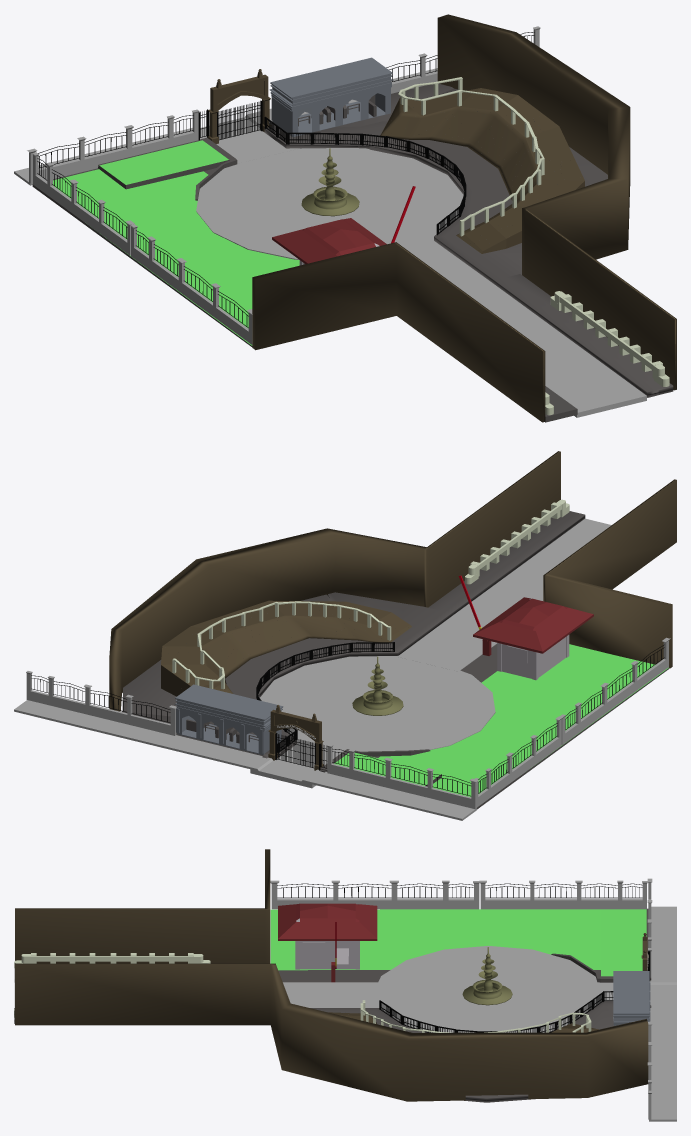
File: Gate3 1.fbx
3 views of the same model, one above another, from view 1: azimuth 30°, elevation 25°; view 2: azimuth 150°, elevation 25°; view 3: azimuth 270°, elevation 25° (orthographic). The views are drawn at different scales.
Parts seen in each view (by area): view 1: Cube.003, Wall, Gate 3 Rotonda, Righrt Stairs, Left Stairs.001, Mini bundok, Road, Entrance, Barrier, Barrier.002, GuardHouse, Barrier.001 (+9 smaller); view 2: Cube.003, Righrt Stairs, Gate 3 Rotonda, Wall, Left Stairs.001, Mini bundok, Road, Outside Sidewalk, GuardHouse, Entrance, Barrier, Barrier.003 (+9 smaller); view 3: Cube.003, Righrt Stairs, Gate 3 Rotonda, Wall, GuardHouse, Outside Sidewalk, Barrier.002, Barrier.001, Road, Entrance, Left Stairs.001, Bridge.001 (+5 smaller).
Part boxes in pixels (x1,y1,x2,y2): Cube.003: (437,14,676,390); Wall: (252,242,545,422); Gate 3 Rotonda: (196,148,463,259); Righrt Stairs: (32,137,577,422); Left Stairs.001: (264,83,673,397); Mini bundok: (380,88,584,253); Road: (403,239,646,417); Entrance: (269,57,393,137); Barrier: (27,109,199,183); Barrier.002: (130,224,252,344); GuardHouse: (272,218,386,265); Barrier.001: (32,152,134,255); Cube.003: (109,451,560,711); Righrt Stairs: (320,644,668,809); Gate 3 Rotonda: (260,656,495,751); Wall: (543,479,676,668); Left Stairs.001: (121,511,585,758); Mini bundok: (161,600,411,696); Road: (397,518,611,671); Outside Sidewalk: (14,700,476,820); GuardHouse: (473,597,593,680); Entrance: (174,684,283,755); Barrier: (326,744,478,809); Barrier.003: (26,671,176,735); Cube.003: (15,963,648,1101); Righrt Stairs: (14,908,651,982); Gate 3 Rotonda: (378,946,598,1032); Wall: (15,849,270,963); GuardHouse: (278,903,377,969); Outside Sidewalk: (649,906,676,1121); Barrier.002: (270,880,479,909); Barrier.001: (479,880,647,909); Road: (14,982,381,1007); Entrance: (613,971,650,1025); Left Stairs.001: (14,1001,651,1102); Bridge.001: (14,953,210,968).
Size of the model in its own units: 19226 by 3213 by 25178.
